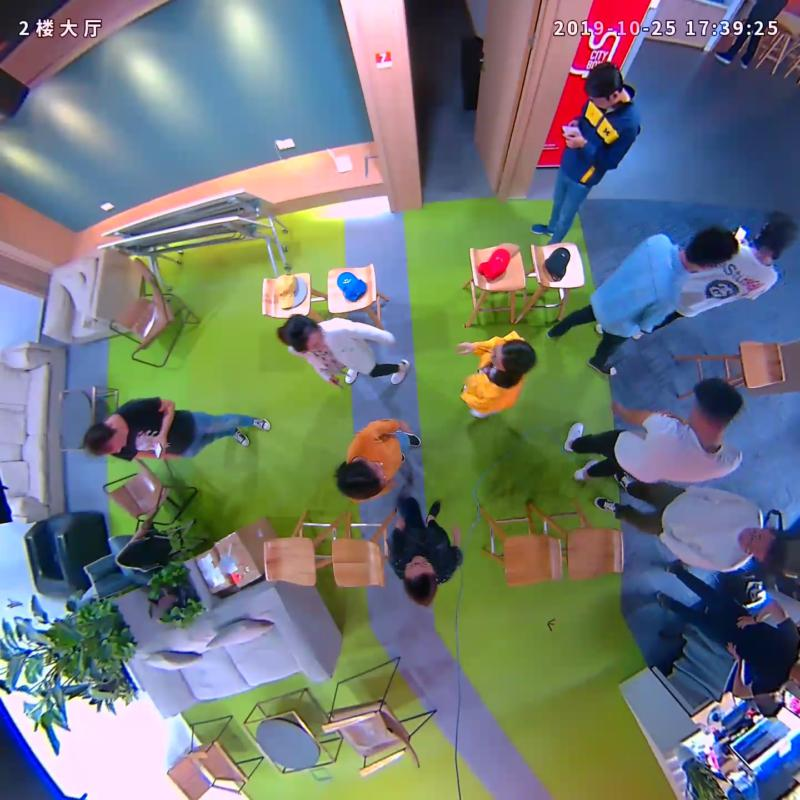head: (690, 378, 745, 436), (683, 225, 740, 273), (742, 525, 787, 572), (336, 460, 387, 500), (403, 553, 438, 608), (584, 59, 622, 108), (757, 212, 797, 258), (281, 314, 325, 353), (491, 338, 537, 373), (83, 423, 129, 456)
